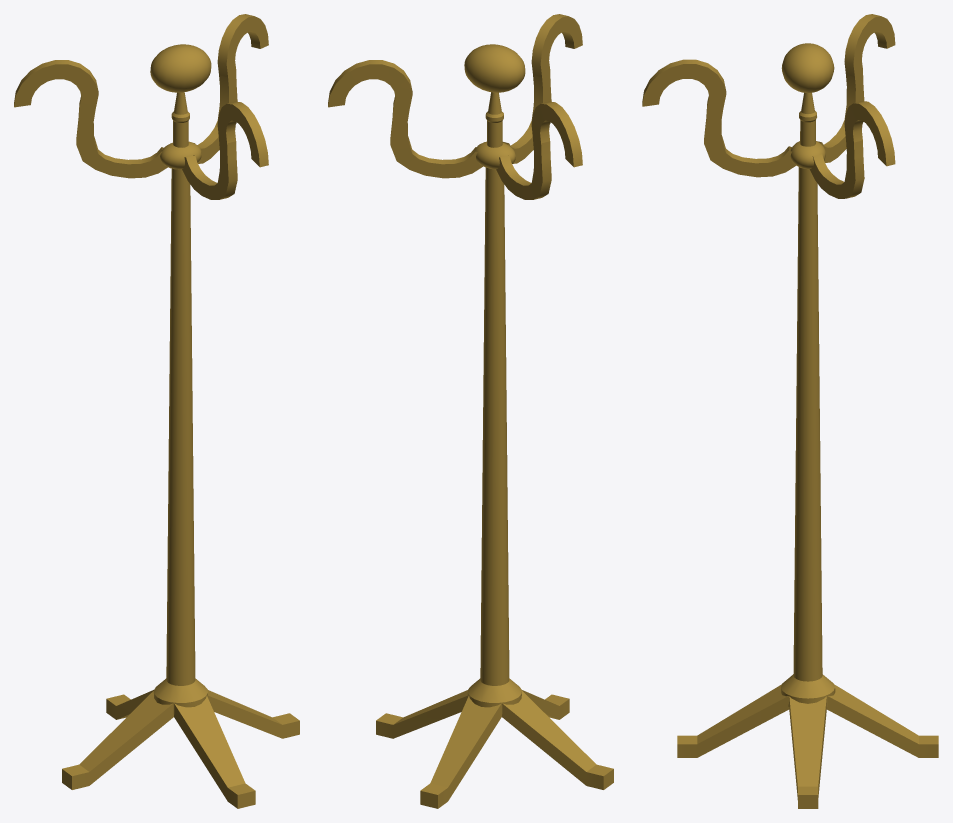
The model's file is SM_Rack.fbx.
The picture shows the model from 3 angles, left to right: view 1: azimuth 30°, elevation 25°; view 2: azimuth 150°, elevation 25°; view 3: azimuth 270°, elevation 25°; orthographic projection.
Parts seen in each view (by area): view 1: SM_Rack_LOD0; view 2: SM_Rack_LOD0; view 3: SM_Rack_LOD0.
Part boxes in pixels (x1,y1,x2,y2): SM_Rack_LOD0: [14, 14, 299, 808]; SM_Rack_LOD0: [328, 14, 613, 808]; SM_Rack_LOD0: [642, 14, 938, 808].
Size of the model in its own units: 76.64 by 77.72 by 204.
